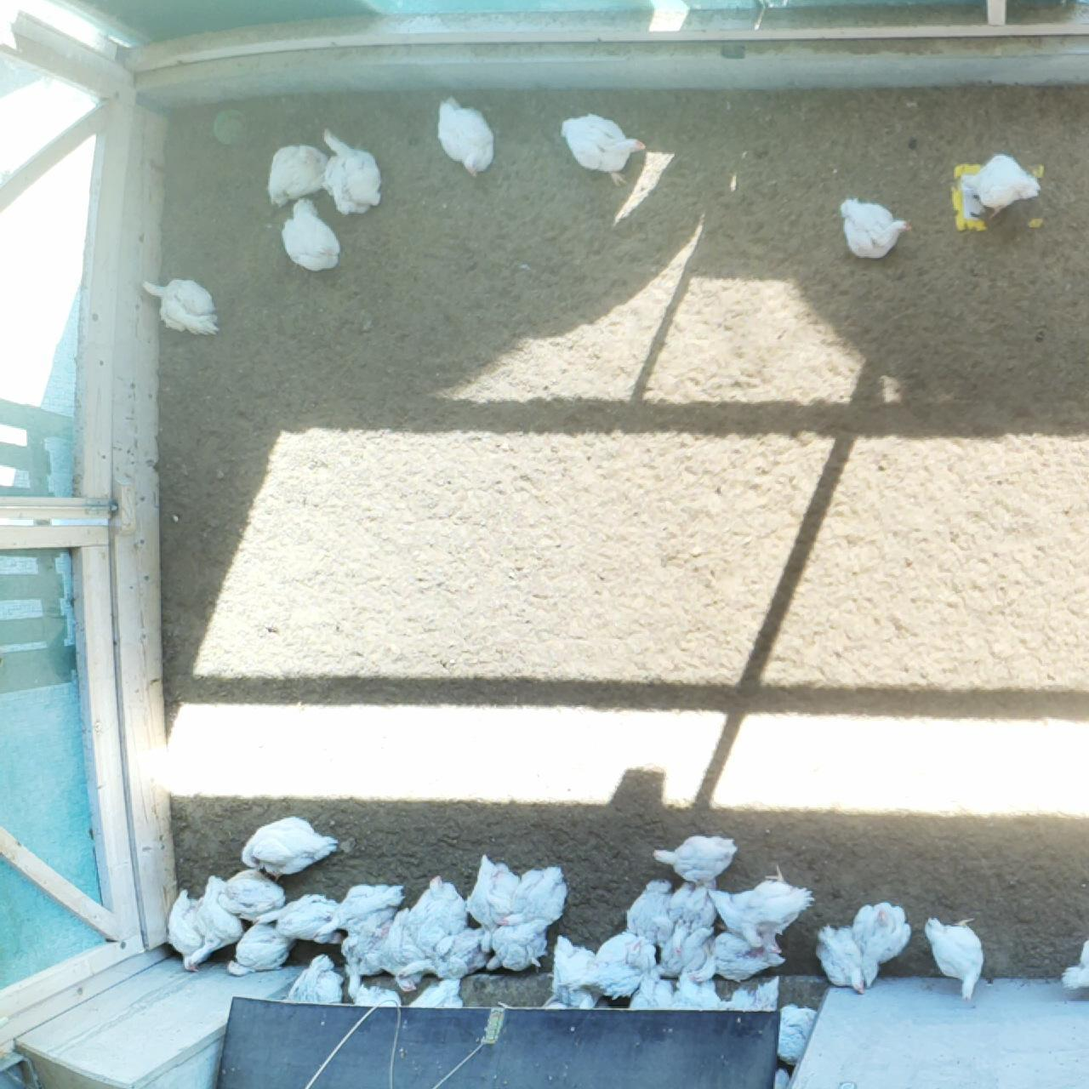chicken: (563, 111, 647, 185), (240, 818, 336, 877), (927, 911, 986, 1006), (653, 830, 740, 890), (738, 875, 809, 944), (323, 130, 381, 214), (854, 901, 911, 986), (842, 195, 915, 260), (479, 920, 564, 975), (438, 95, 494, 178), (550, 940, 616, 1010), (970, 157, 1045, 218), (409, 877, 464, 960), (687, 934, 773, 984), (143, 278, 219, 334), (206, 875, 294, 923), (279, 202, 339, 270), (505, 869, 569, 932), (630, 883, 681, 962), (227, 925, 295, 983), (199, 881, 247, 962), (385, 913, 434, 989), (667, 882, 716, 956), (267, 146, 331, 202), (167, 894, 216, 966), (814, 925, 867, 991), (254, 899, 334, 941), (601, 937, 655, 994), (345, 927, 396, 984), (470, 860, 509, 930), (334, 883, 391, 927)
